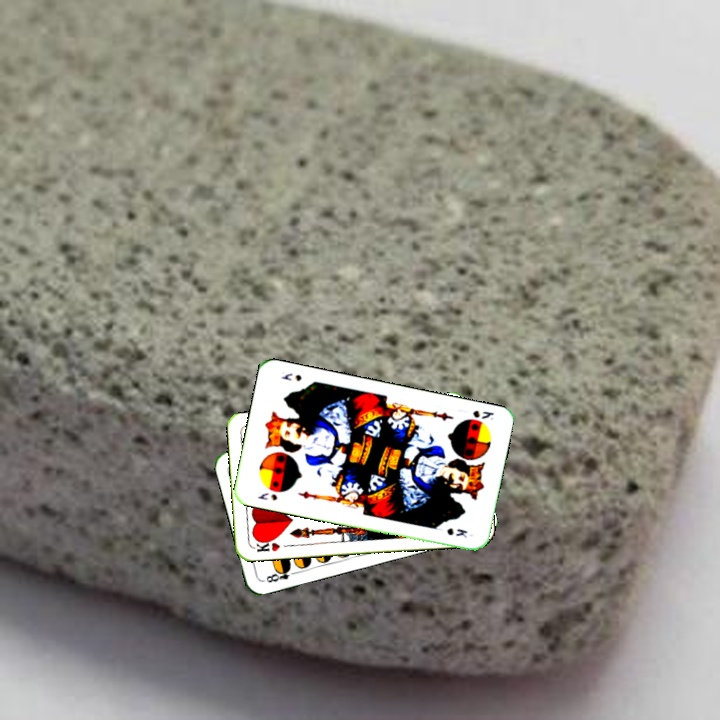E8: (259, 563, 300, 585)
HK: (250, 535, 282, 554)
SK: (469, 406, 497, 423), (254, 489, 280, 503)
